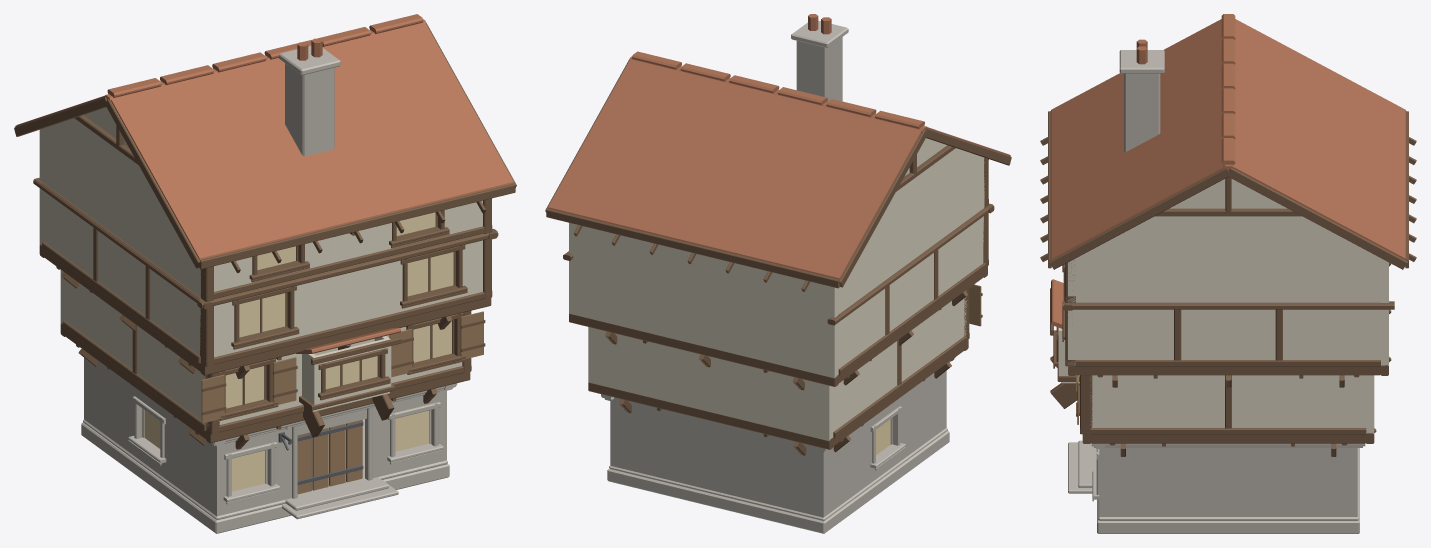
File: house_c.glb
3 views of the same model, side by side, from view 1: azimuth 30°, elevation 25°; view 2: azimuth 150°, elevation 25°; view 3: azimuth 270°, elevation 25° (orthographic). The views are drawn at different scales.
Parts seen in each view (by area): view 1: house_c; view 2: house_c; view 3: house_c.
Boxes of the visible parts, x1,y1,x2,y2 form: house_c: (14, 14, 516, 533); house_c: (545, 14, 1011, 533); house_c: (1040, 14, 1416, 533).
Size of the model in its own units: 13.25 by 17.74 by 13.94.
